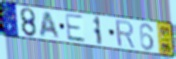1: (92, 15, 104, 47)
6: (139, 22, 156, 52)
8: (19, 7, 38, 38)
A: (39, 11, 61, 40)
E: (64, 12, 87, 44)
R: (114, 19, 137, 50)
